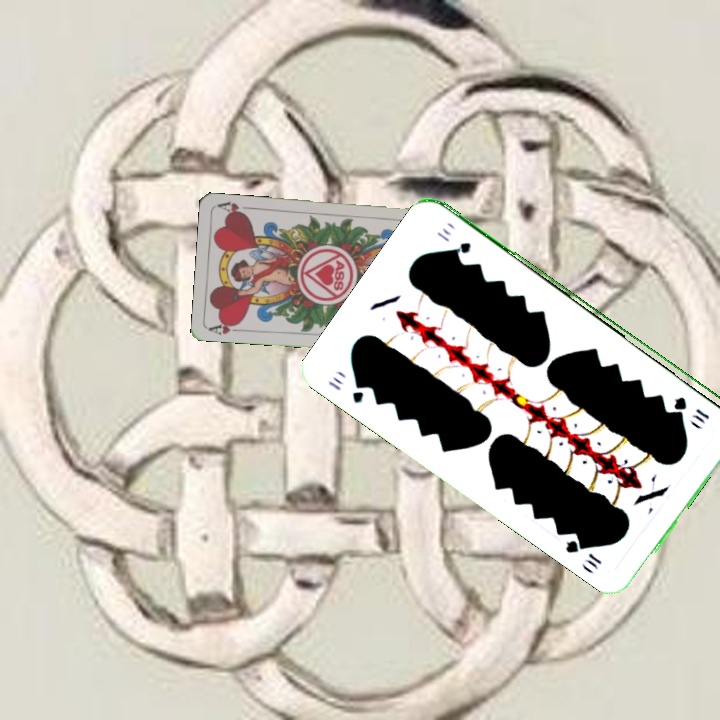G10: (670, 392, 713, 426), (324, 374, 369, 406)
HA: (205, 318, 246, 337)
